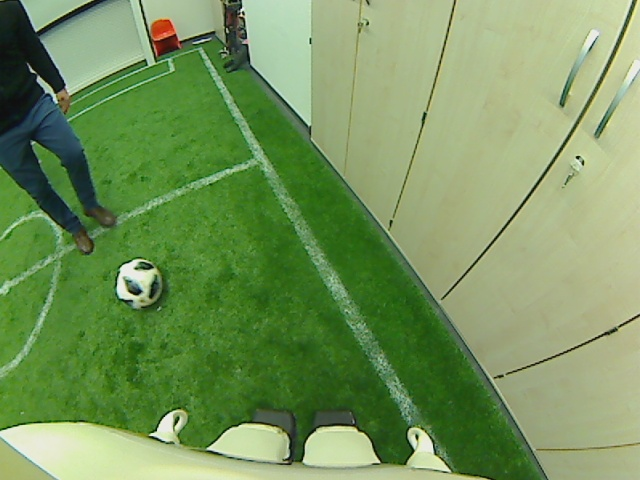ball: (113, 257, 163, 307)
